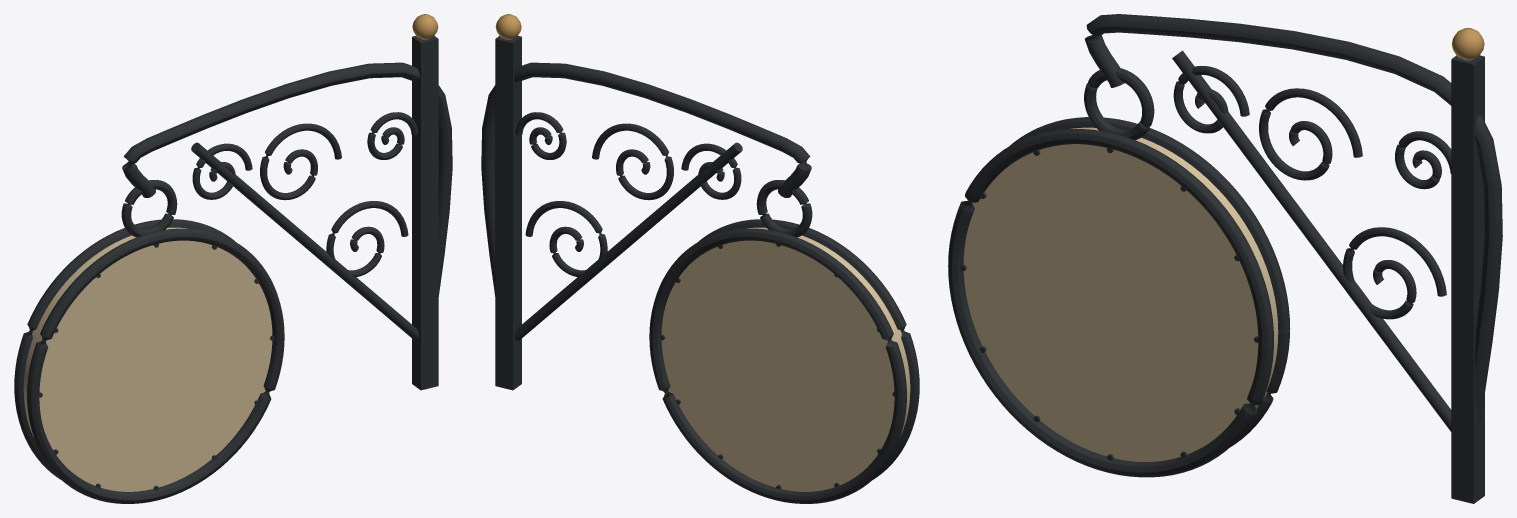
The model's file is sign.glb.
The picture shows the model from 3 angles, left to right: view 1: azimuth 30°, elevation 25°; view 2: azimuth 150°, elevation 25°; view 3: azimuth 330°, elevation 25°; orthographic projection. The views are drawn at different scales.
Visible parts, largest first — view 1: sign_enamel.006, sign_black.006, sign_brass.006; view 2: sign_enamel.006, sign_black.006, sign_brass.006; view 3: sign_enamel.006, sign_black.006, sign_brass.006.
Part boxes in pixels (x1,y1,x2,y2): sign_enamel.006: [23, 227, 272, 491]; sign_black.006: [14, 36, 452, 503]; sign_brass.006: [412, 14, 438, 39]; sign_enamel.006: [661, 227, 910, 491]; sign_black.006: [481, 36, 919, 503]; sign_brass.006: [495, 14, 521, 39]; sign_enamel.006: [963, 127, 1278, 461]; sign_black.006: [948, 14, 1502, 503]; sign_brass.006: [1451, 28, 1484, 60].
Bounding box in the file's own units: 1.68 × 1.55 × 0.13.
